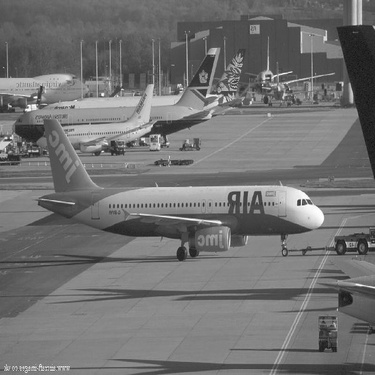airplane: (20, 105, 335, 270), (5, 28, 226, 143), (29, 33, 255, 124), (178, 28, 344, 121), (14, 79, 160, 155), (1, 69, 95, 109)
